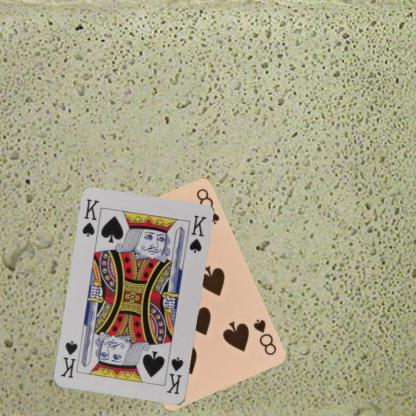8s: (250, 316, 278, 357)
Ks: (164, 354, 185, 396), (80, 196, 100, 238)
